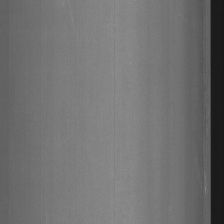silk_spot: (192, 143, 210, 198)
